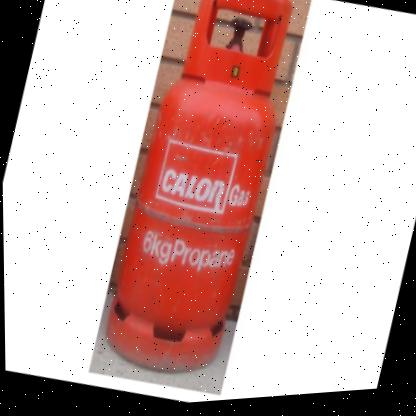gas-tank: (84, 0, 327, 405)
